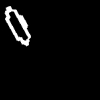chain: (5, 6, 30, 45)
